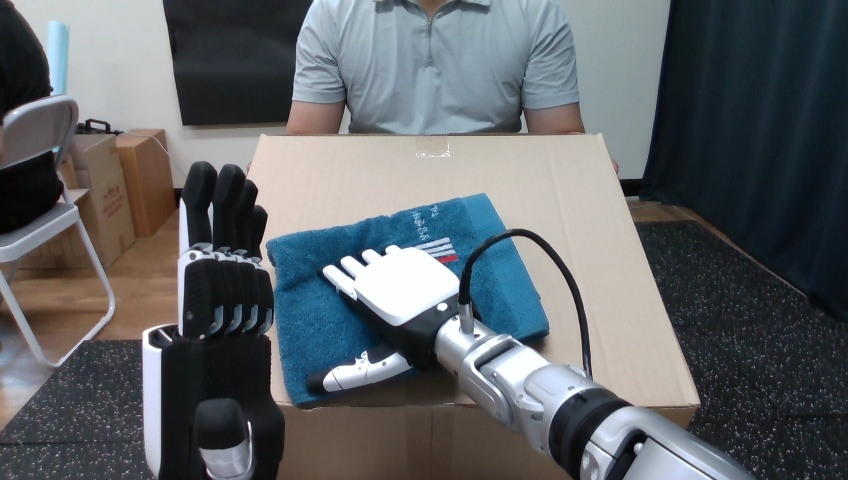left robot hand: (323, 229, 750, 479), (143, 162, 284, 478), (469, 235, 584, 369)
